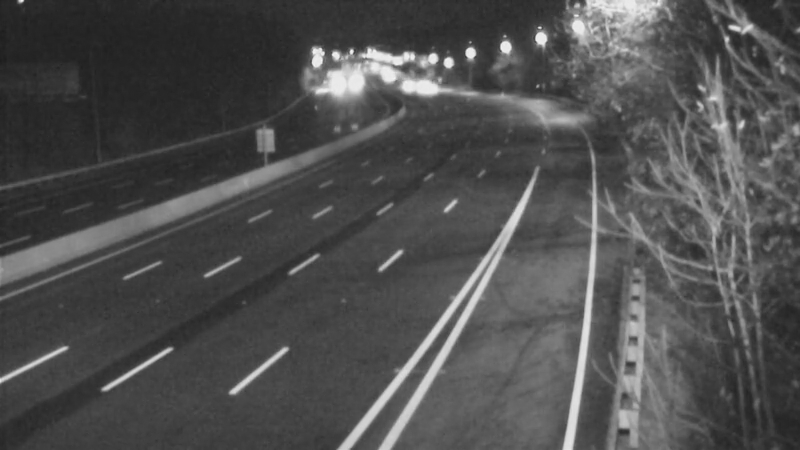vehicle: (378, 58, 428, 108), (394, 59, 444, 109), (402, 65, 452, 115), (310, 54, 360, 104), (329, 54, 379, 104)
